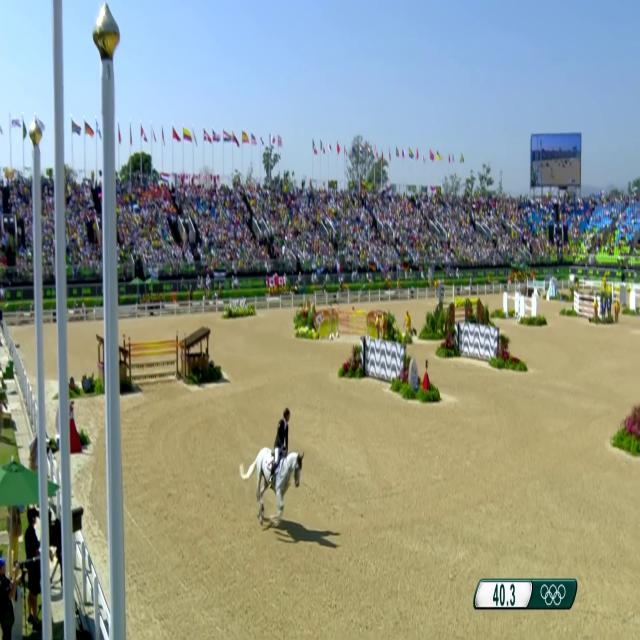Horse Rider: (263, 382, 293, 498)
Horse Running: (232, 426, 310, 534)
